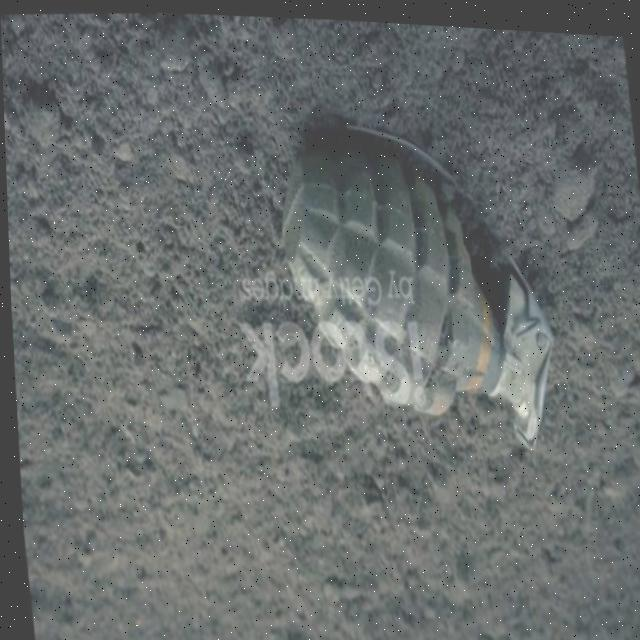grenade: (264, 100, 563, 455)
